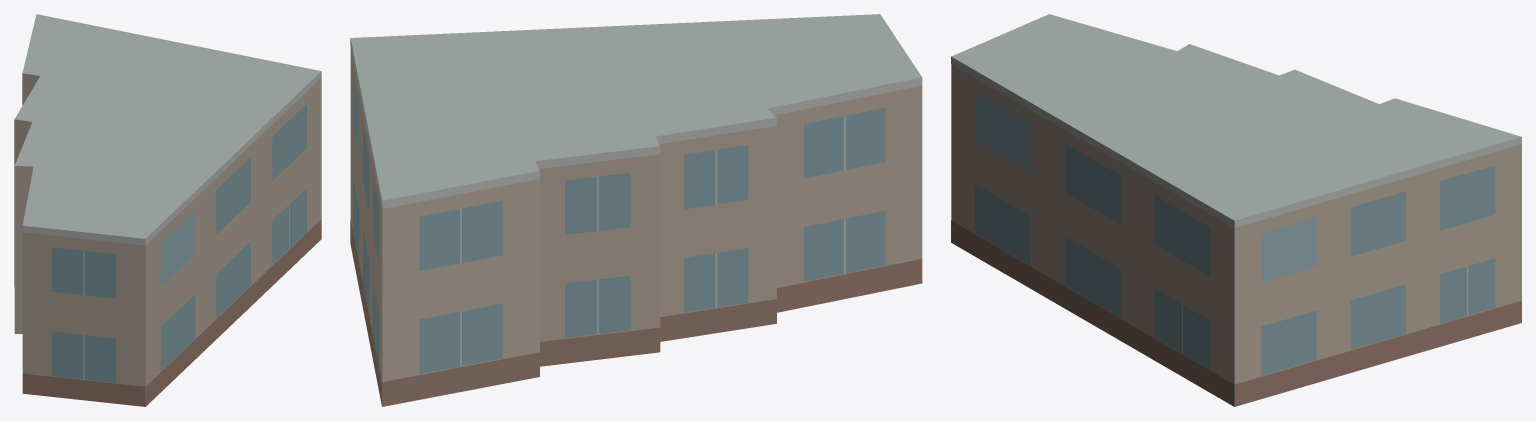
File: survey-upis-32753280.glb
The picture shows the model from 3 angles, left to right: view 1: azimuth 30°, elevation 25°; view 2: azimuth 150°, elevation 25°; view 3: azimuth 270°, elevation 25°; orthographic projection. The views are drawn at different scales.
Visible parts, largest first — view 1: survey-upis-32753280.tmp; view 2: survey-upis-32753280.tmp; view 3: survey-upis-32753280.tmp.
Part boxes in pixels (box(x1,y1,x2,y2)): survey-upis-32753280.tmp: box(14, 14, 321, 406); survey-upis-32753280.tmp: box(350, 14, 922, 406); survey-upis-32753280.tmp: box(951, 14, 1521, 406).
Bounding box in the file's own units: 14.54 × 6.1 × 16.96.
